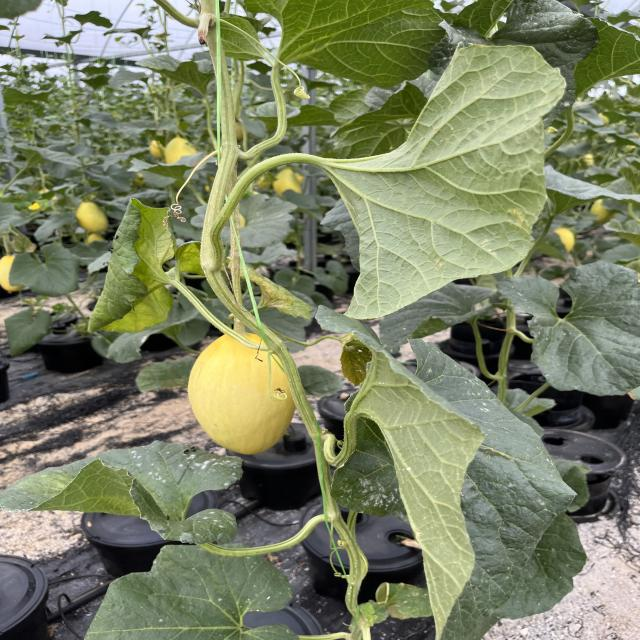SLCV: (92, 202, 196, 338), (478, 0, 600, 66)
alternaria leaf blight: (247, 268, 320, 322)
downy mildew: (323, 331, 594, 632), (316, 48, 590, 330), (242, 0, 448, 92)
powdery mildew: (0, 445, 259, 541), (91, 541, 295, 640), (316, 427, 407, 515)
